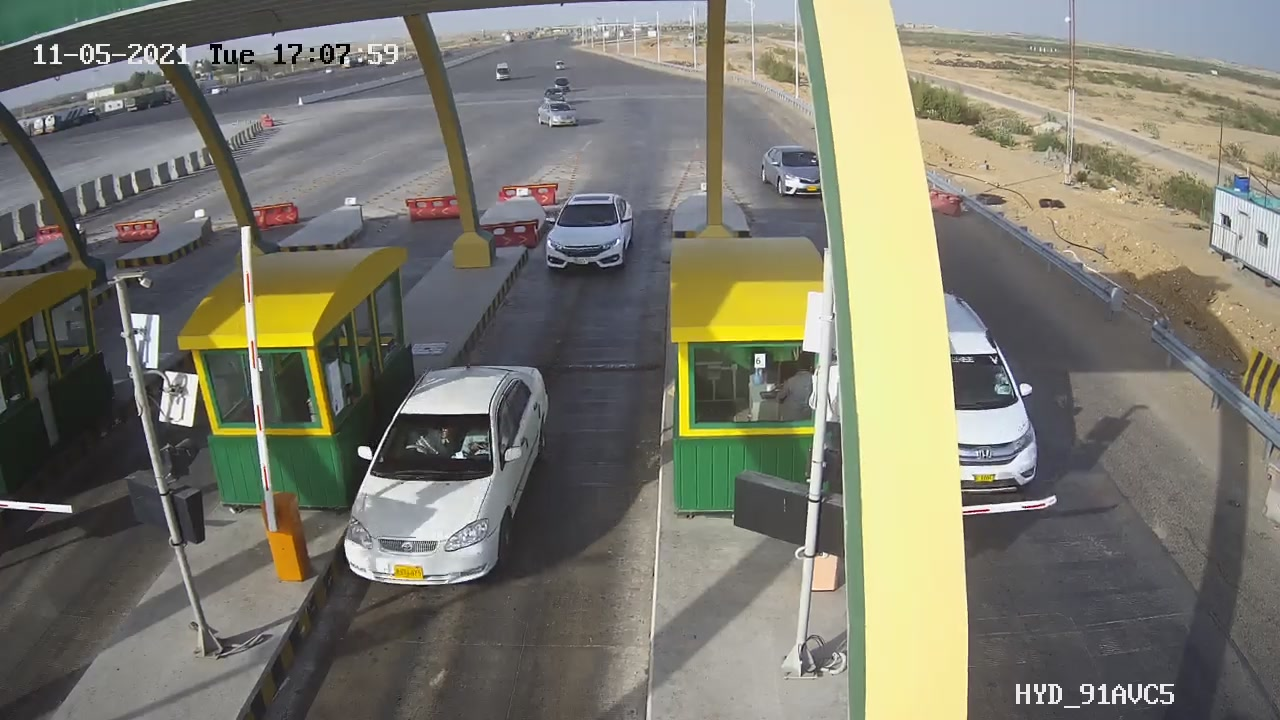F1: (321, 353, 569, 603), (527, 182, 646, 286)
